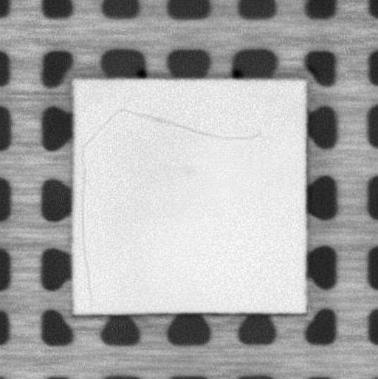DIE_CRACK: (77, 107, 263, 145), (79, 145, 95, 307)
